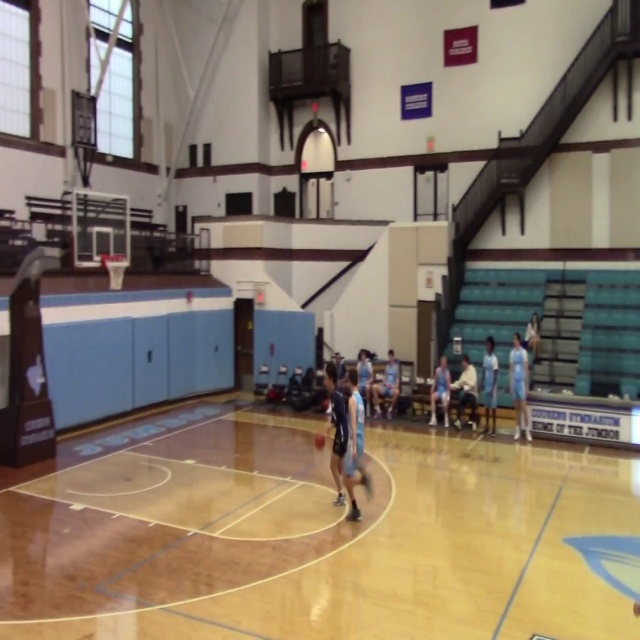Basketball: (314, 434, 325, 449)
